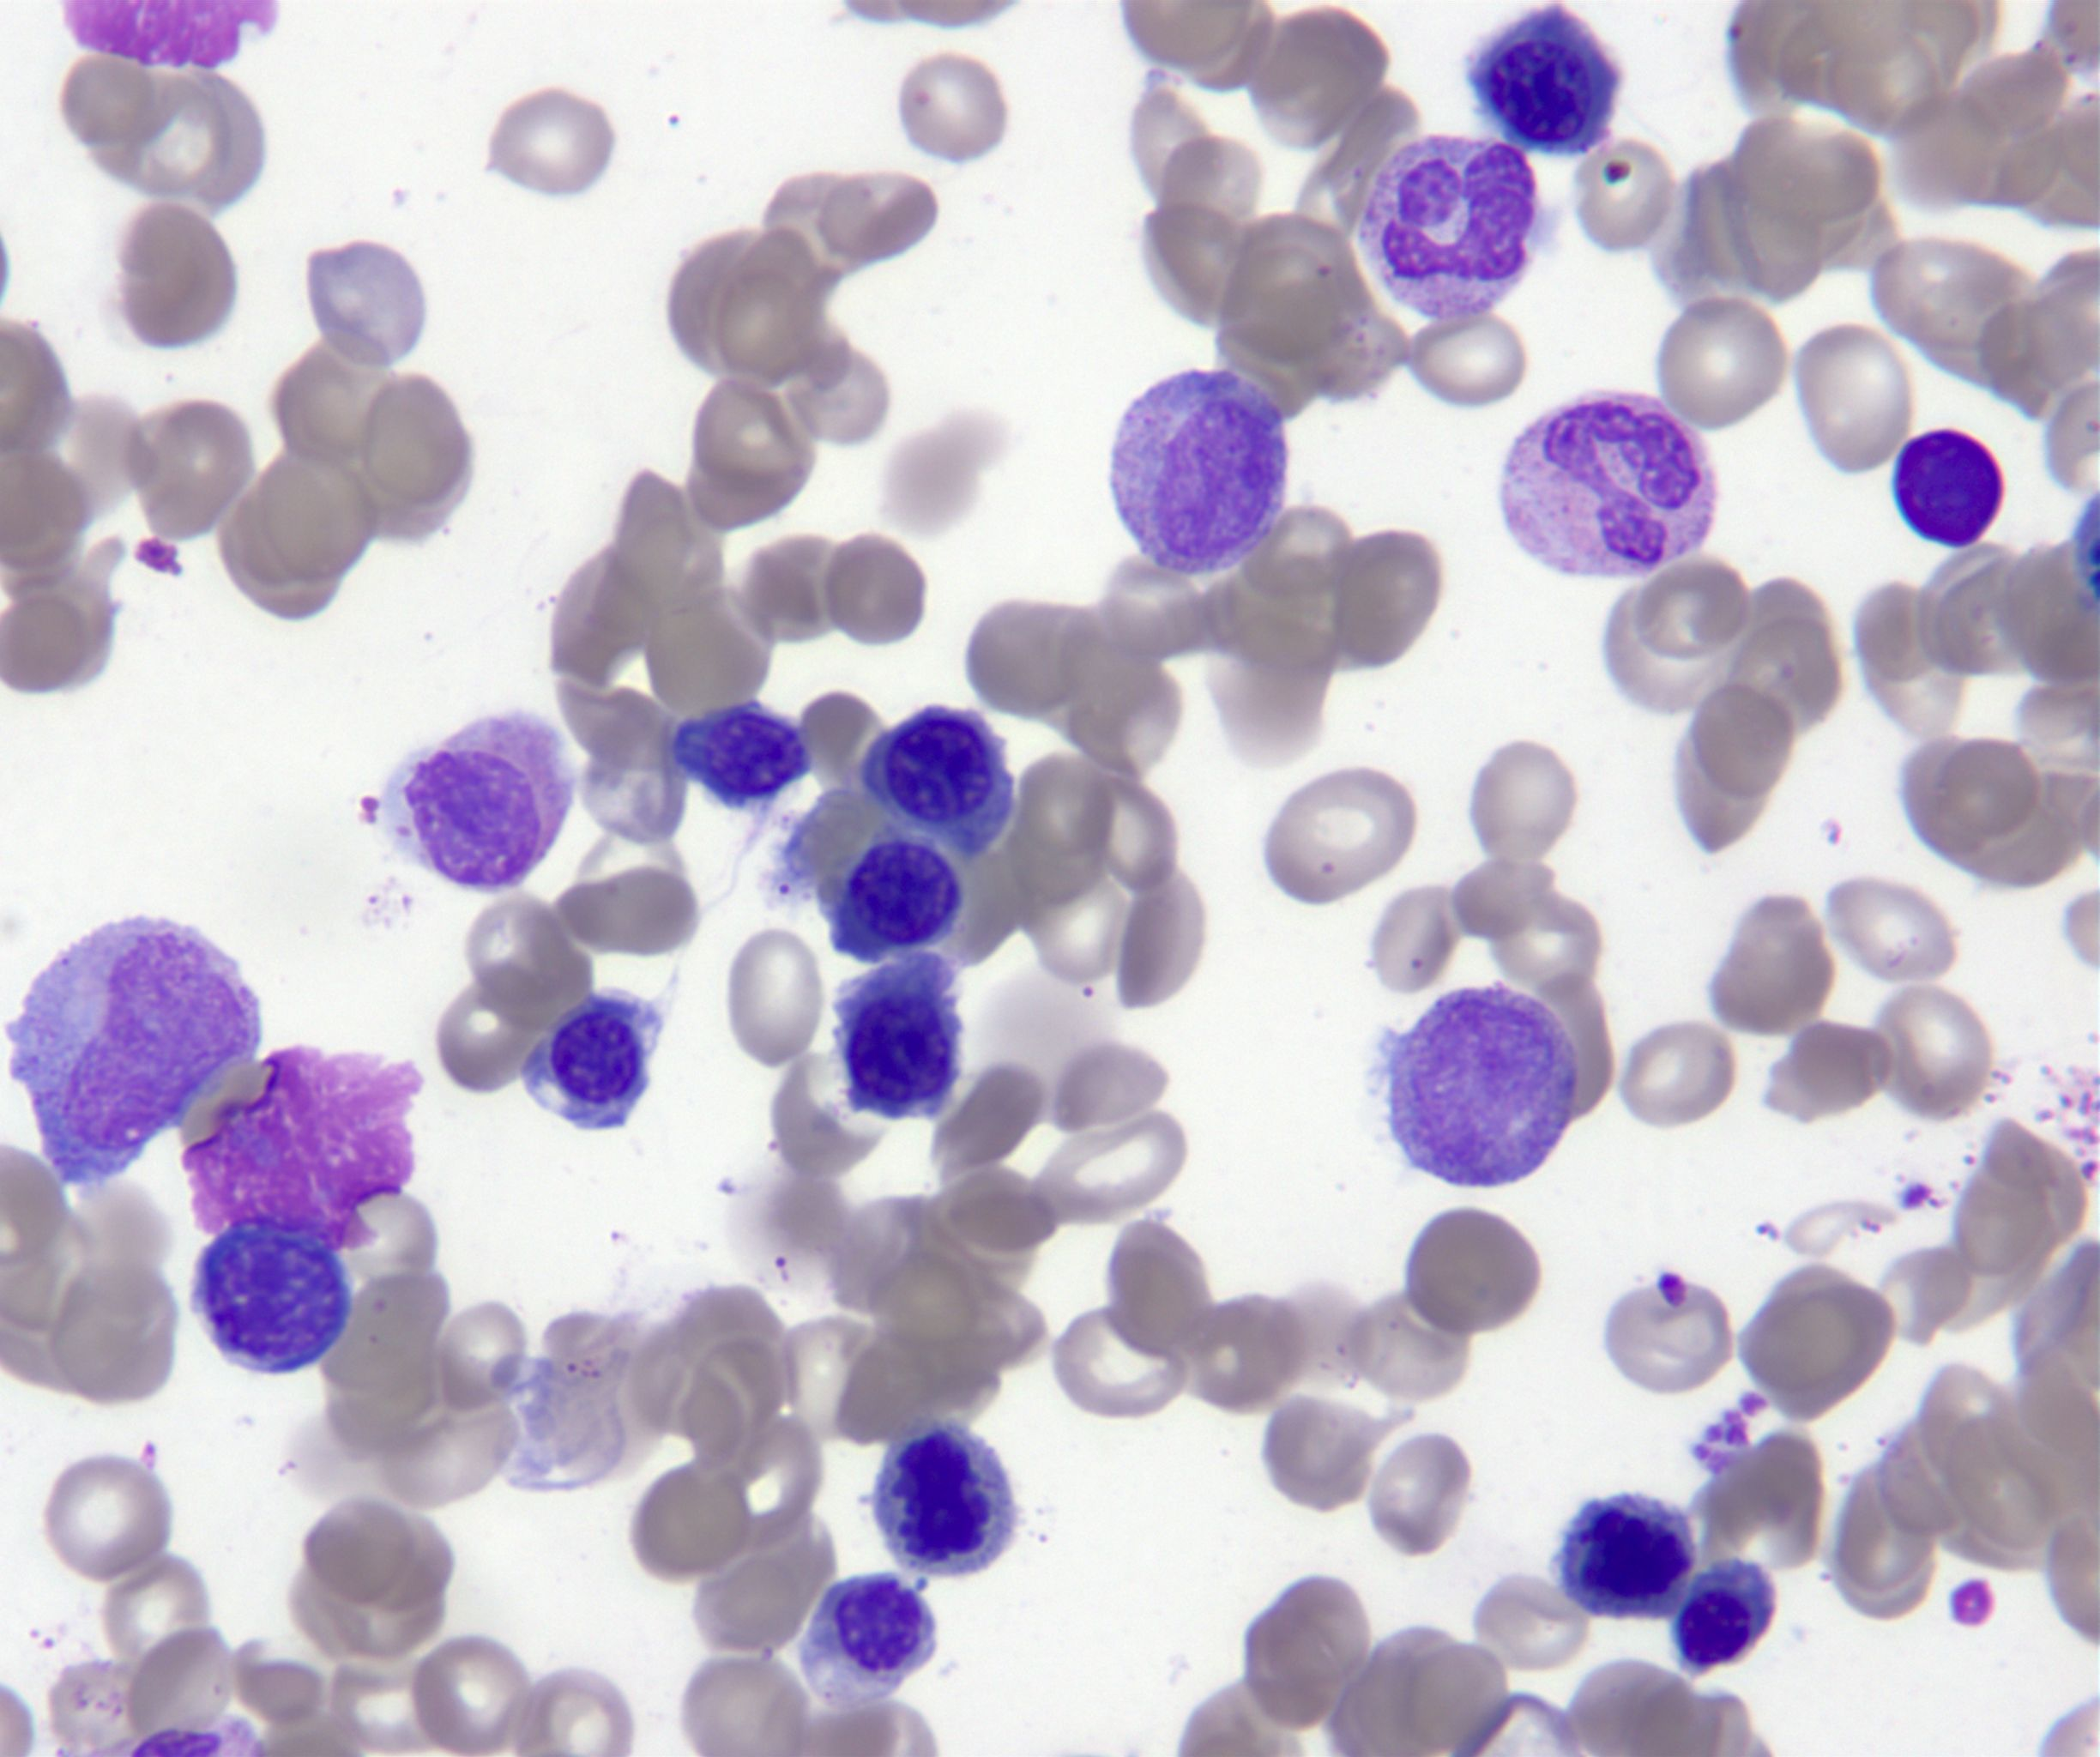23: (195, 1216, 352, 1377)
24: (1458, 2, 1622, 159), (867, 705, 1013, 853), (828, 958, 959, 1117), (525, 989, 666, 1131), (799, 1577, 935, 1708), (1554, 1495, 1697, 1617), (825, 834, 959, 963), (670, 701, 809, 799), (1673, 1558, 1781, 1675)
3: (7, 920, 258, 1188), (1385, 984, 1577, 1188), (1113, 370, 1282, 572)
4: (377, 715, 577, 886)
5: (1503, 391, 1711, 574)
6: (1357, 134, 1535, 328)
x: (181, 1047, 420, 1251), (870, 1420, 1019, 1581), (1894, 429, 2002, 550)
